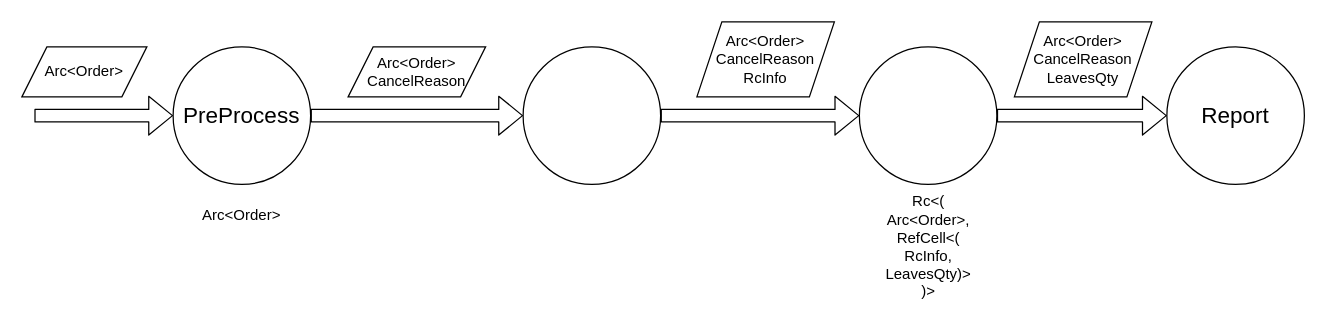
This 1326x323 diagram has some shape labels left out. Here are the shapes that lost their labels. From the top down, the centre of each, then its label:
At (591,115): "Check".
At (927,115): "Match".
